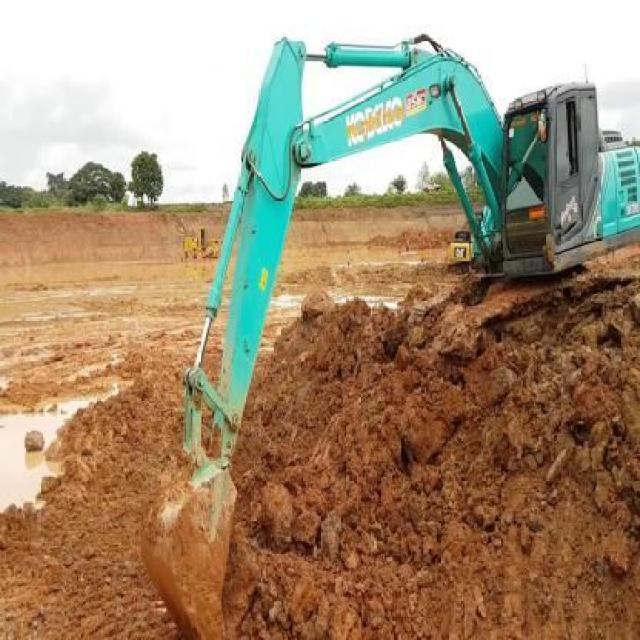Excavator: (141, 32, 639, 631)
